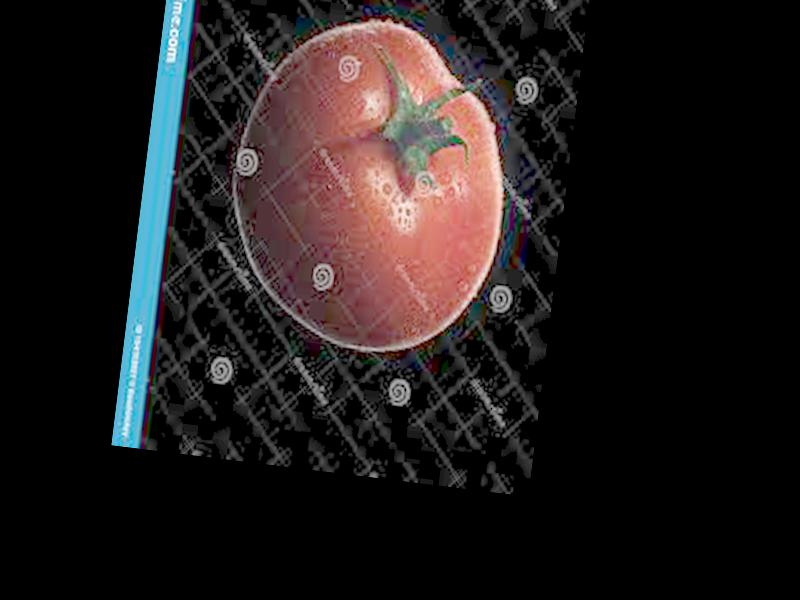Tomato: (217, 5, 523, 366)
